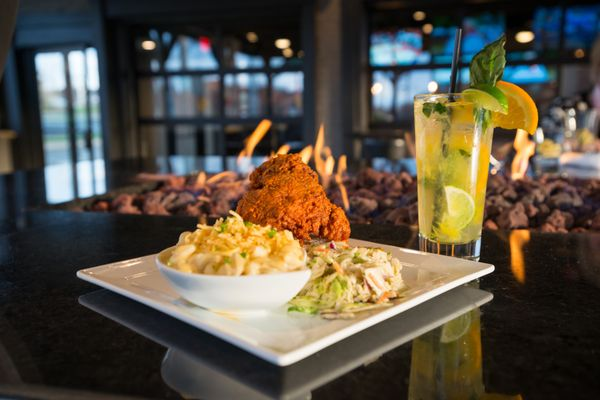pizza: (413, 91, 495, 260)
soup: (235, 146, 352, 243)
sushi: (155, 207, 311, 311), (155, 238, 315, 310)
